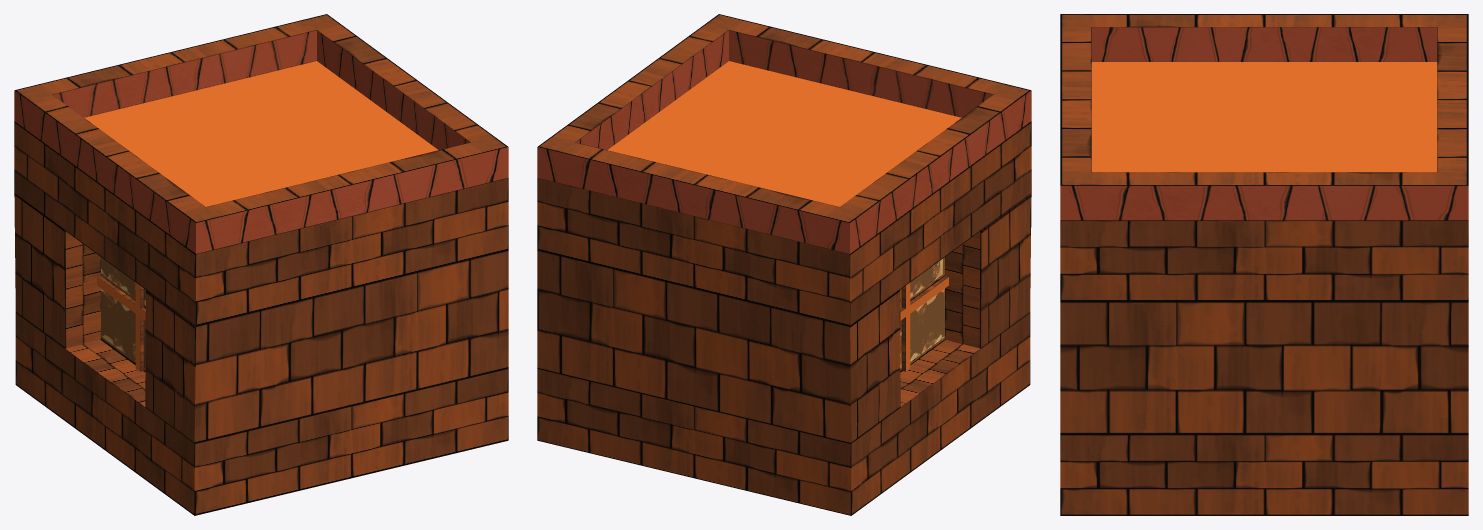
Rendered from Depaul_Building_4.fbx.
3 renders of one model, left to right at view 1: azimuth 30°, elevation 25°; view 2: azimuth 150°, elevation 25°; view 3: azimuth 270°, elevation 25°, orthographic. The views are drawn at different scales.
Parts seen in each view (by area): view 1: Object; view 2: Object; view 3: Object.
Part boxes in pixels (x1,y1,x2,y2): Object: [14, 14, 508, 515]; Object: [537, 14, 1031, 515]; Object: [1060, 14, 1468, 515].
Bounding box in the file's own units: 172 × 155 × 173.
